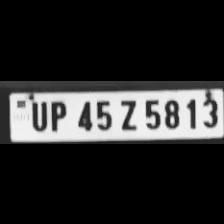1: (182, 96, 198, 128)
3: (199, 94, 219, 128)
4: (72, 97, 94, 131)
5: (92, 97, 114, 131), (139, 96, 161, 128)
8: (160, 96, 182, 128)
P: (45, 97, 69, 130)
U: (26, 99, 48, 131)
Z: (115, 96, 139, 130)
